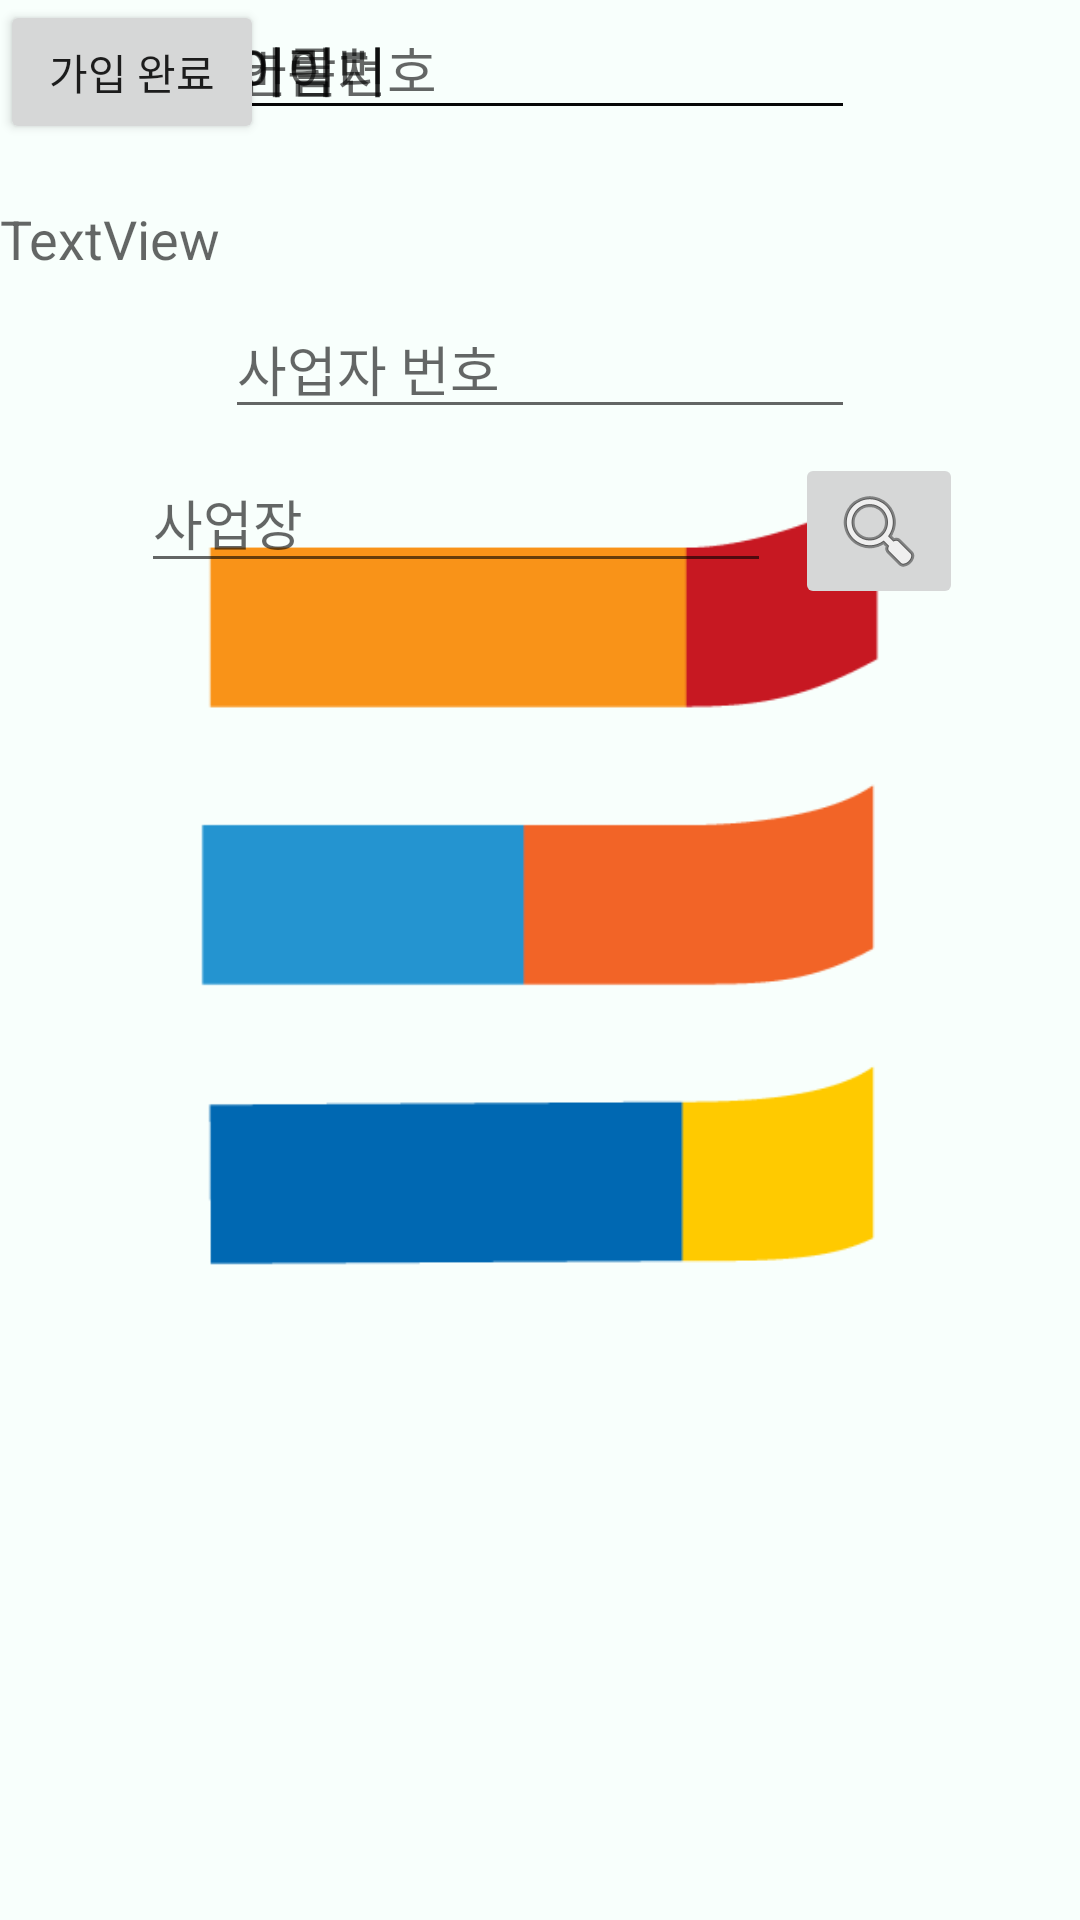

Named icons in this screenshot (1080px x 1920px) and their centers, point (x, y):
search: point (873, 540)
